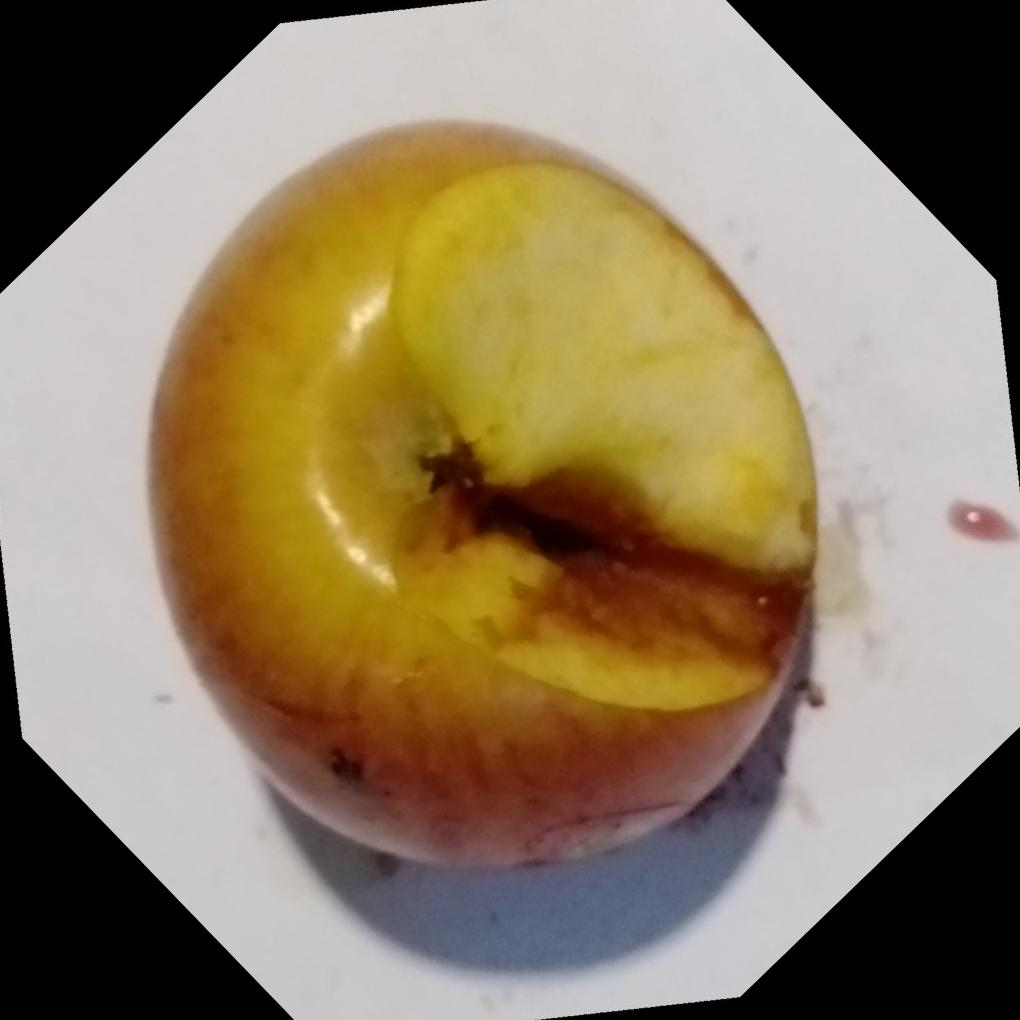FreshOrange: (145, 124, 819, 873)
